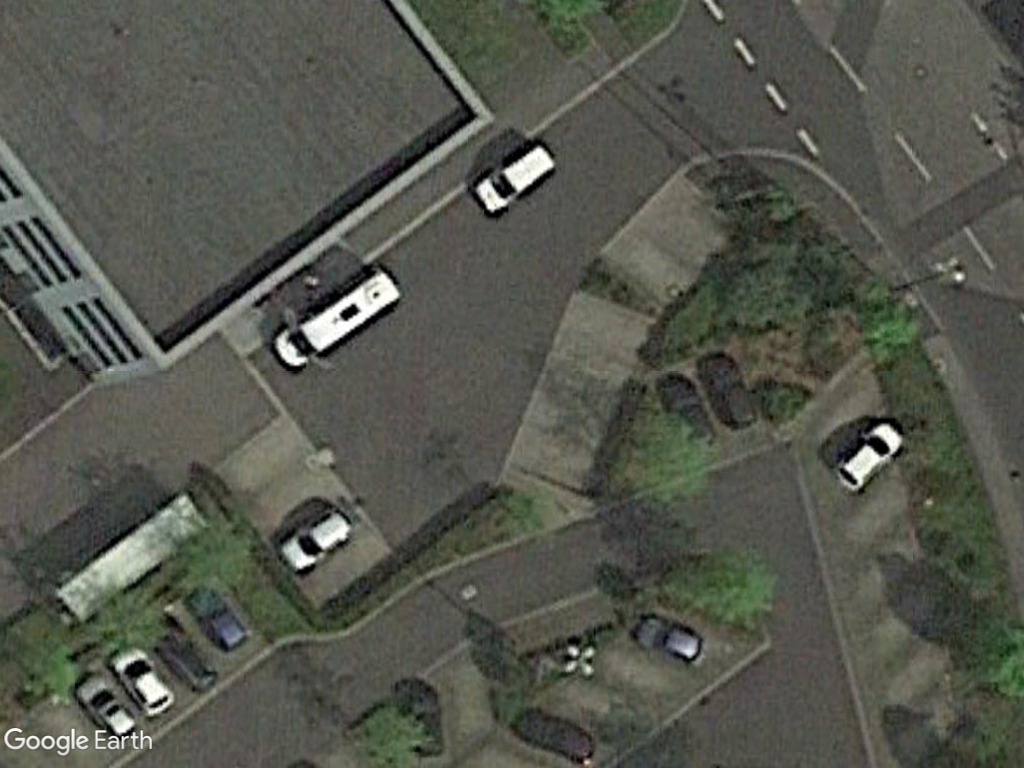car: (274, 505, 356, 578), (832, 421, 907, 494), (108, 641, 176, 718), (73, 669, 142, 743)
van: (266, 266, 409, 376), (471, 141, 559, 221)
